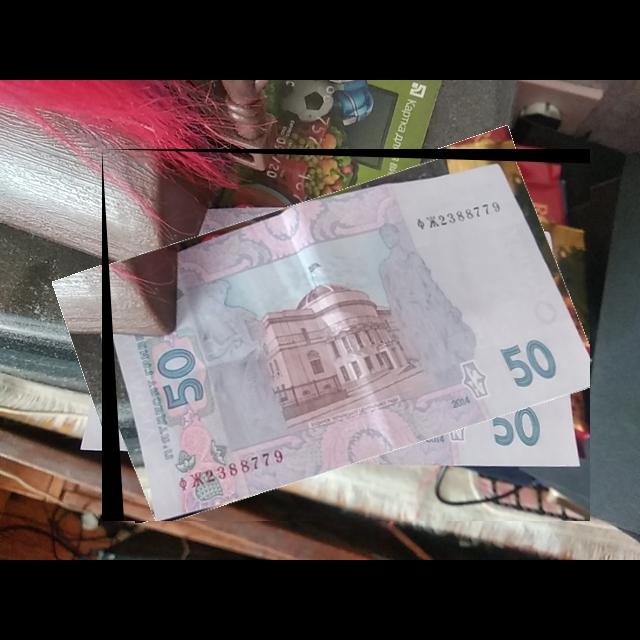50uah: (111, 159, 591, 522)
